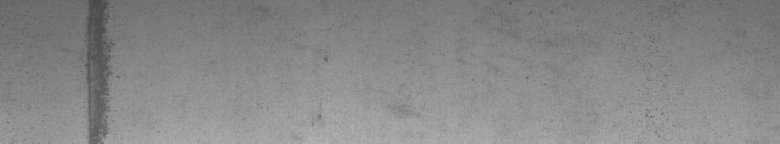hd: (79, 4, 120, 136)
